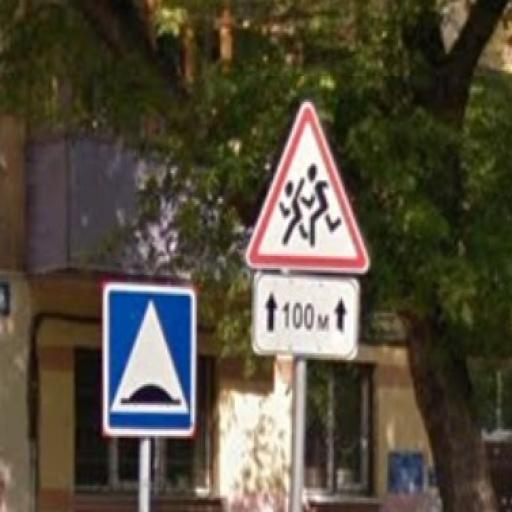traffic_sign: (244, 102, 372, 275), (104, 281, 199, 442)
